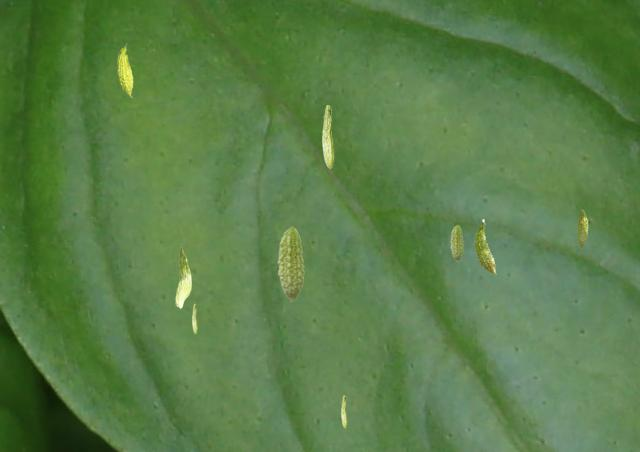ampalaya: (277, 226, 304, 302), (473, 218, 496, 274), (175, 243, 192, 309), (117, 43, 133, 98), (321, 104, 334, 168), (450, 224, 464, 262), (576, 209, 589, 248), (340, 395, 347, 428), (191, 303, 198, 334)
